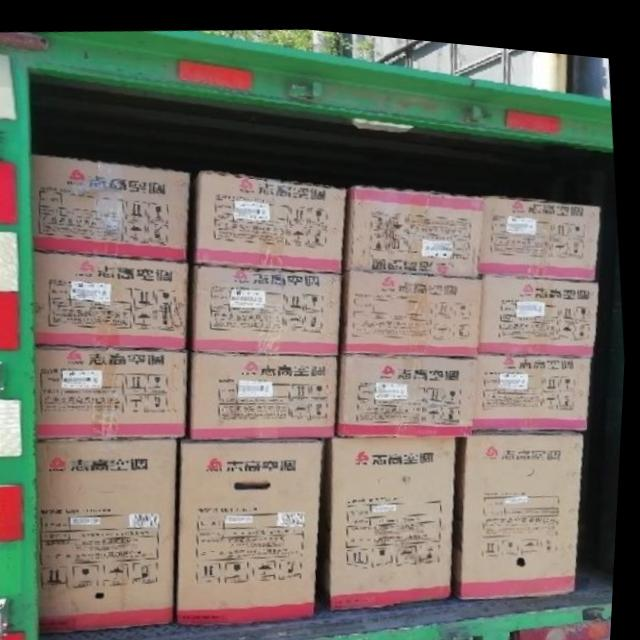box: (41, 434, 181, 633), (184, 432, 326, 620), (324, 426, 459, 602), (460, 420, 587, 586), (31, 153, 192, 258), (196, 167, 349, 266), (39, 345, 193, 438), (38, 254, 196, 344), (194, 262, 344, 349), (195, 348, 343, 435), (343, 345, 479, 431), (348, 181, 482, 267), (344, 267, 480, 347), (480, 186, 603, 269), (477, 267, 600, 347), (475, 343, 596, 420)
